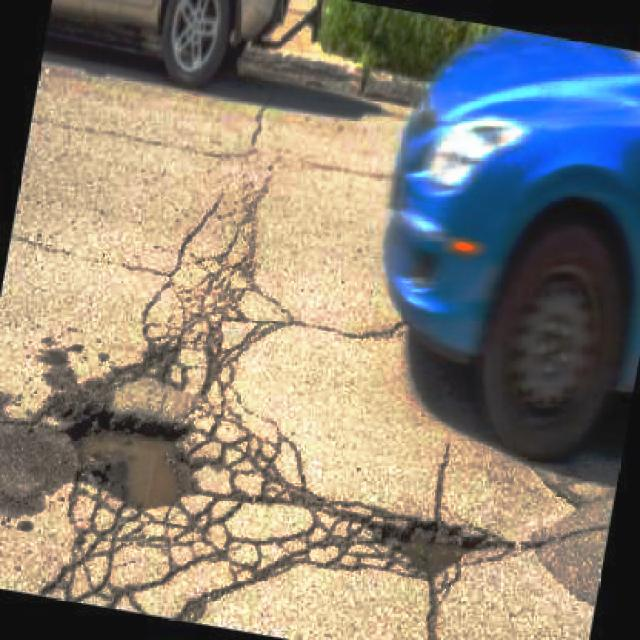pothole: (60, 405, 206, 520), (349, 506, 502, 583)
